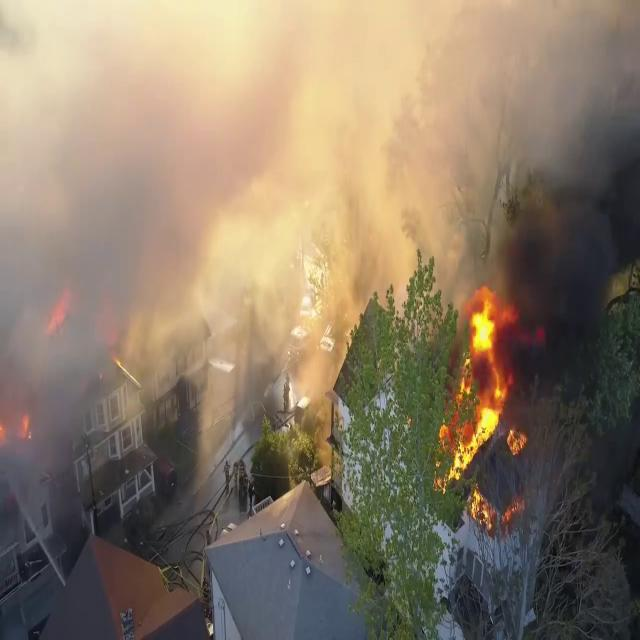Fire: (438, 284, 528, 507)
Smoke: (0, 1, 420, 439), (427, 0, 640, 341)
